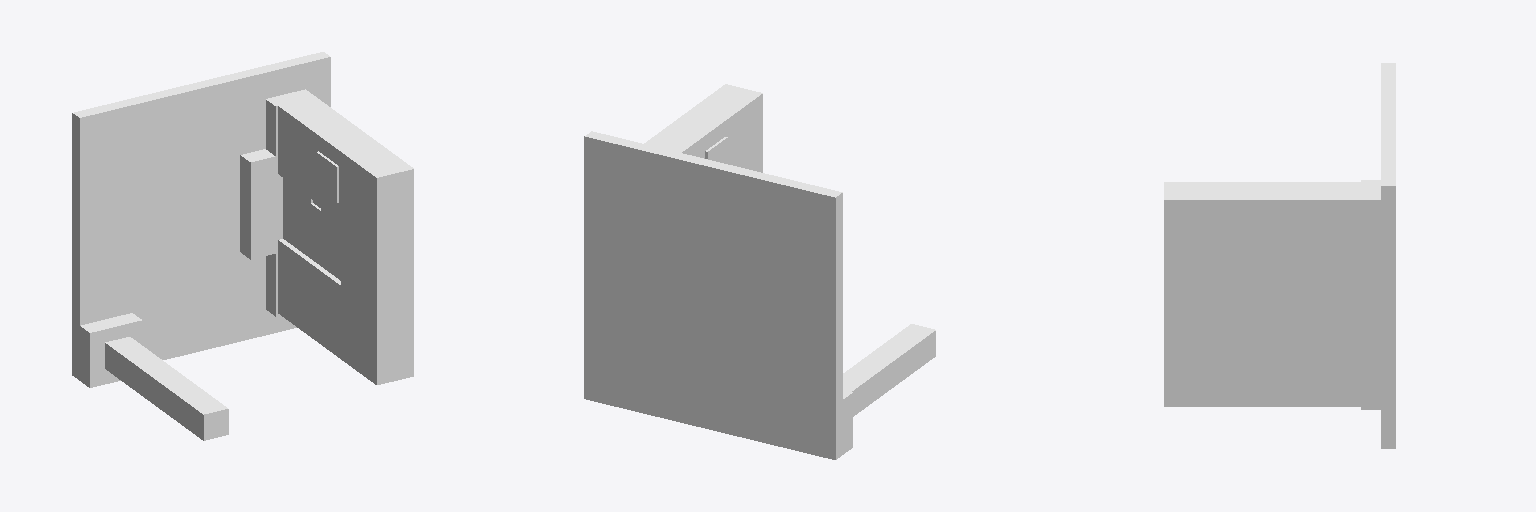
File: Building1Var1-Entrance2-0.obj
3 renders of one model, left to right at view 1: azimuth 30°, elevation 25°; view 2: azimuth 150°, elevation 25°; view 3: azimuth 270°, elevation 25°, orthographic.
Parts seen in each view (by area): view 1: object 1; view 2: object 1; view 3: object 1.
Part boxes in pixels (bbox=[...]): object 1: bbox=[72, 52, 413, 440]; object 1: bbox=[584, 84, 935, 459]; object 1: bbox=[1164, 63, 1395, 448].
Bounding box in the file's own units: 100 × 100 × 80.